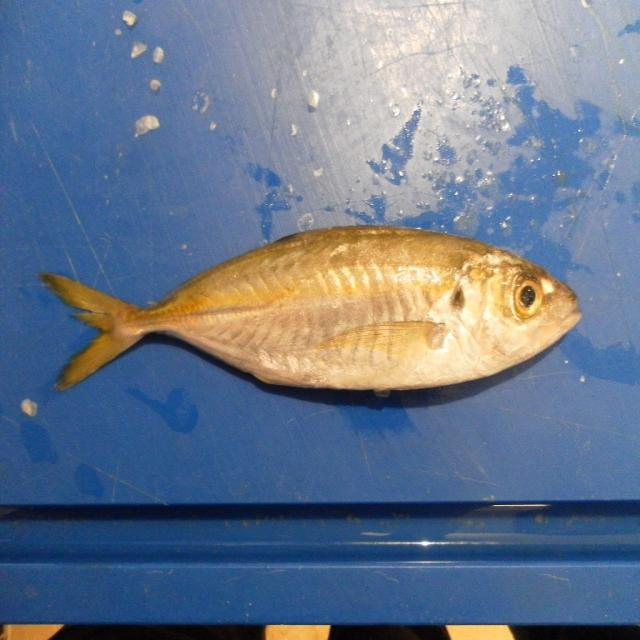Hourse-Mackerel-istavrit-: (41, 226, 582, 395)
